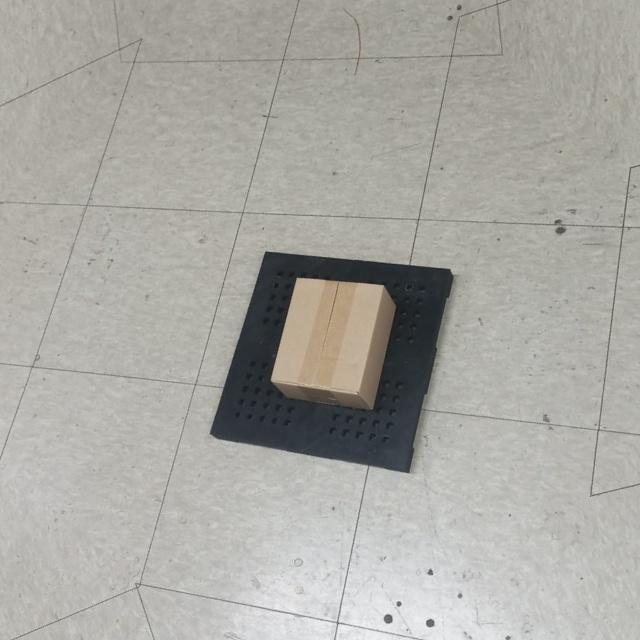box: (270, 274, 400, 416)
pallet: (206, 247, 454, 475)
